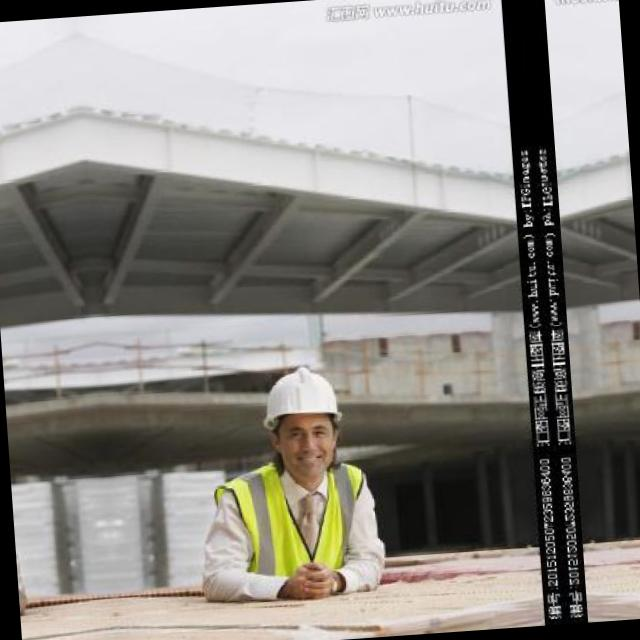helmet: (248, 354, 356, 486)
